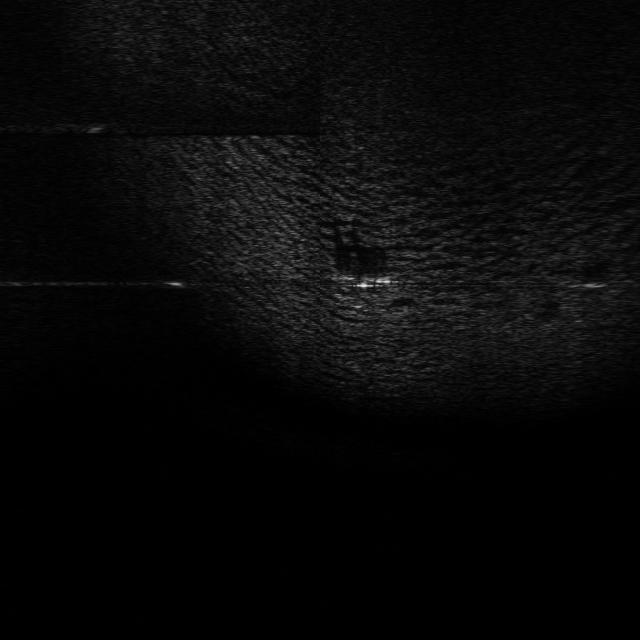plane: (336, 268, 396, 290)
